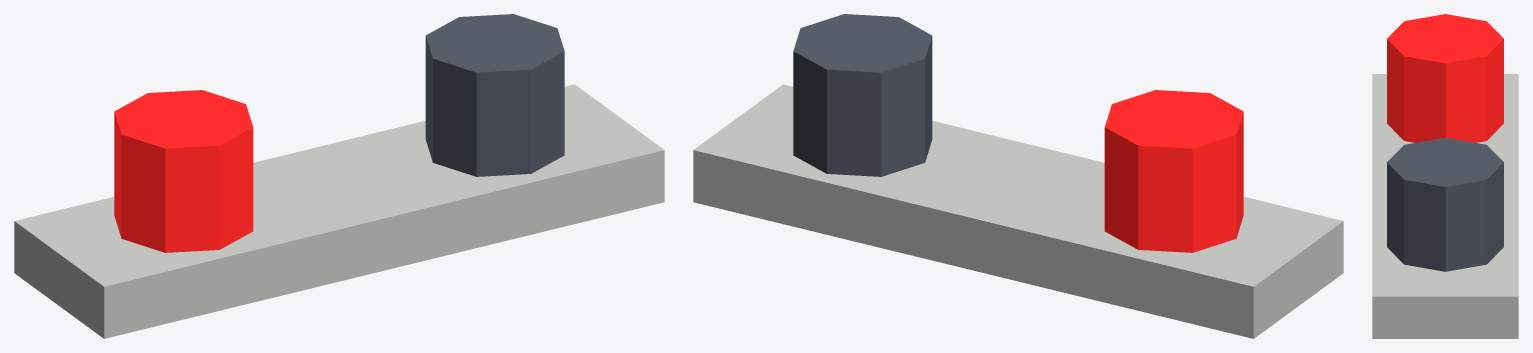
File: car_roof_siren.glb
3 views of the same model, side by side, from view 1: azimuth 30°, elevation 25°; view 2: azimuth 150°, elevation 25°; view 3: azimuth 270°, elevation 25° (orthographic). The views are drawn at different scales.
Parts seen in each view (by area): view 1: base_old_patrol_white, light_siren_red, light_siren_dead; view 2: base_old_patrol_white, light_siren_red, light_siren_dead; view 3: base_old_patrol_white, light_siren_dead, light_siren_red.
Part boxes in pixels (x1,y1,x2,y2): base_old_patrol_white: (14, 84, 664, 338); light_siren_red: (114, 90, 253, 252); light_siren_dead: (425, 14, 564, 176); base_old_patrol_white: (693, 84, 1343, 338); light_siren_red: (1104, 90, 1243, 252); light_siren_dead: (793, 14, 932, 176); base_old_patrol_white: (1372, 74, 1518, 338); light_siren_dead: (1387, 137, 1503, 271); light_siren_red: (1387, 14, 1503, 142).
Bounding box in the file's own units: 0.9 × 0.24 × 0.25.
